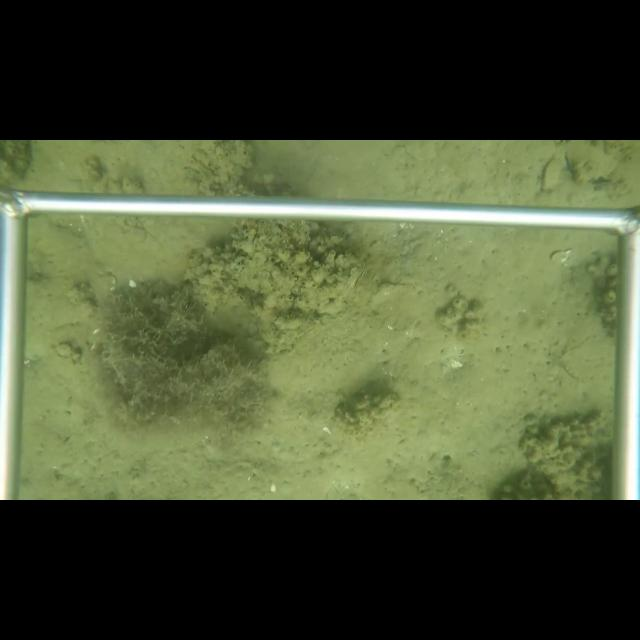Oyster-Closed: (346, 259, 371, 295)
Oyster-Open: (534, 153, 569, 194)
